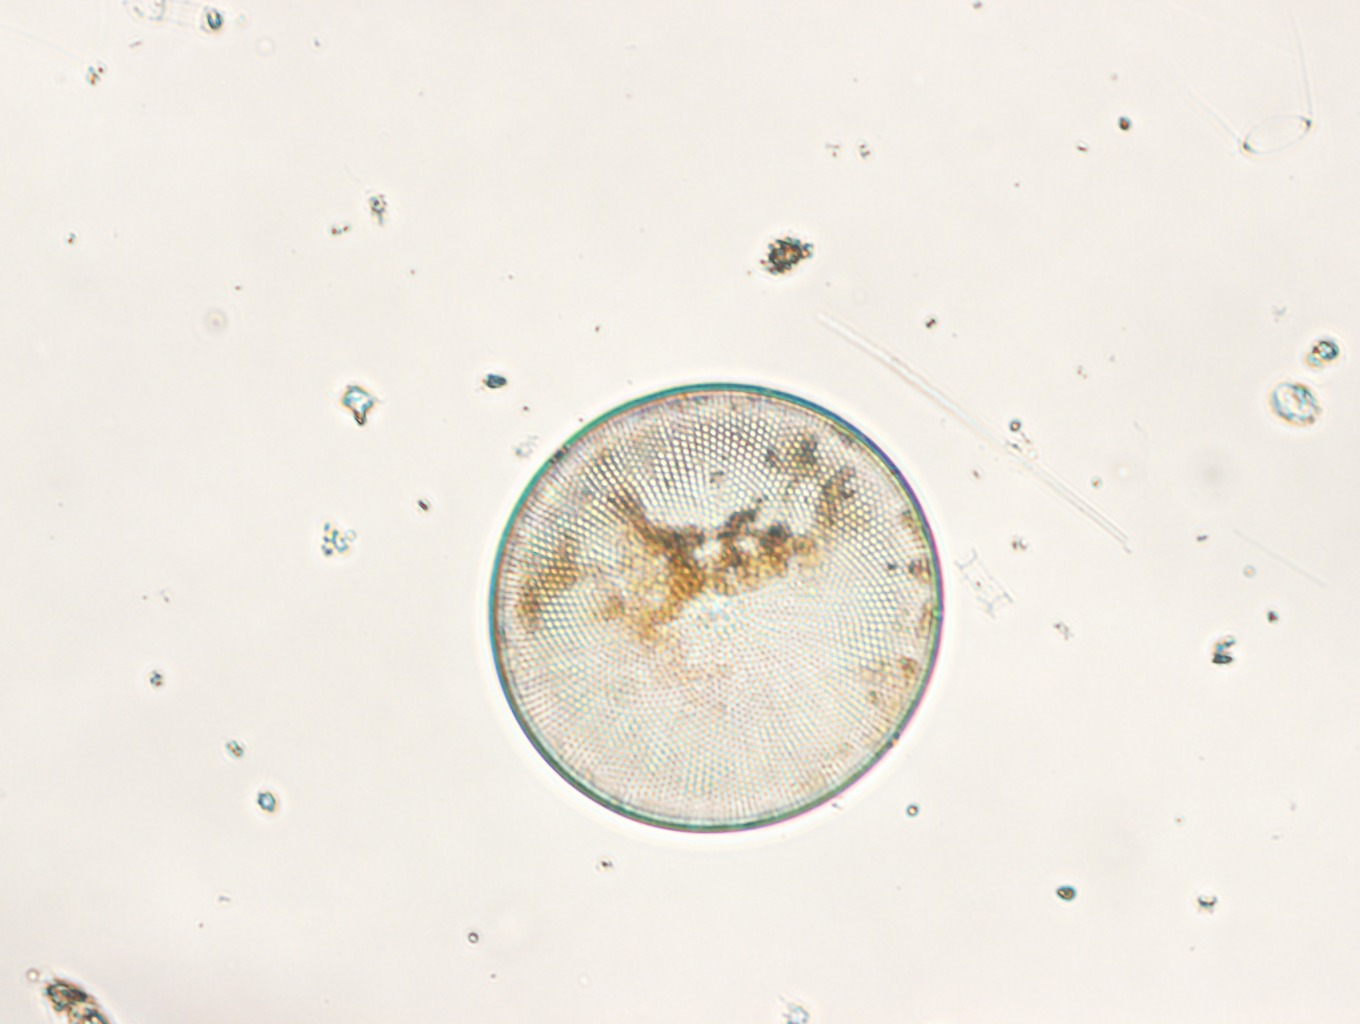chaetoceros: (1172, 19, 1313, 156)
coscinodiscus: (486, 380, 945, 835)
